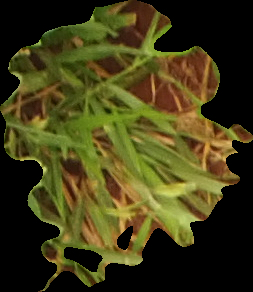grass: (1, 1, 251, 290)
